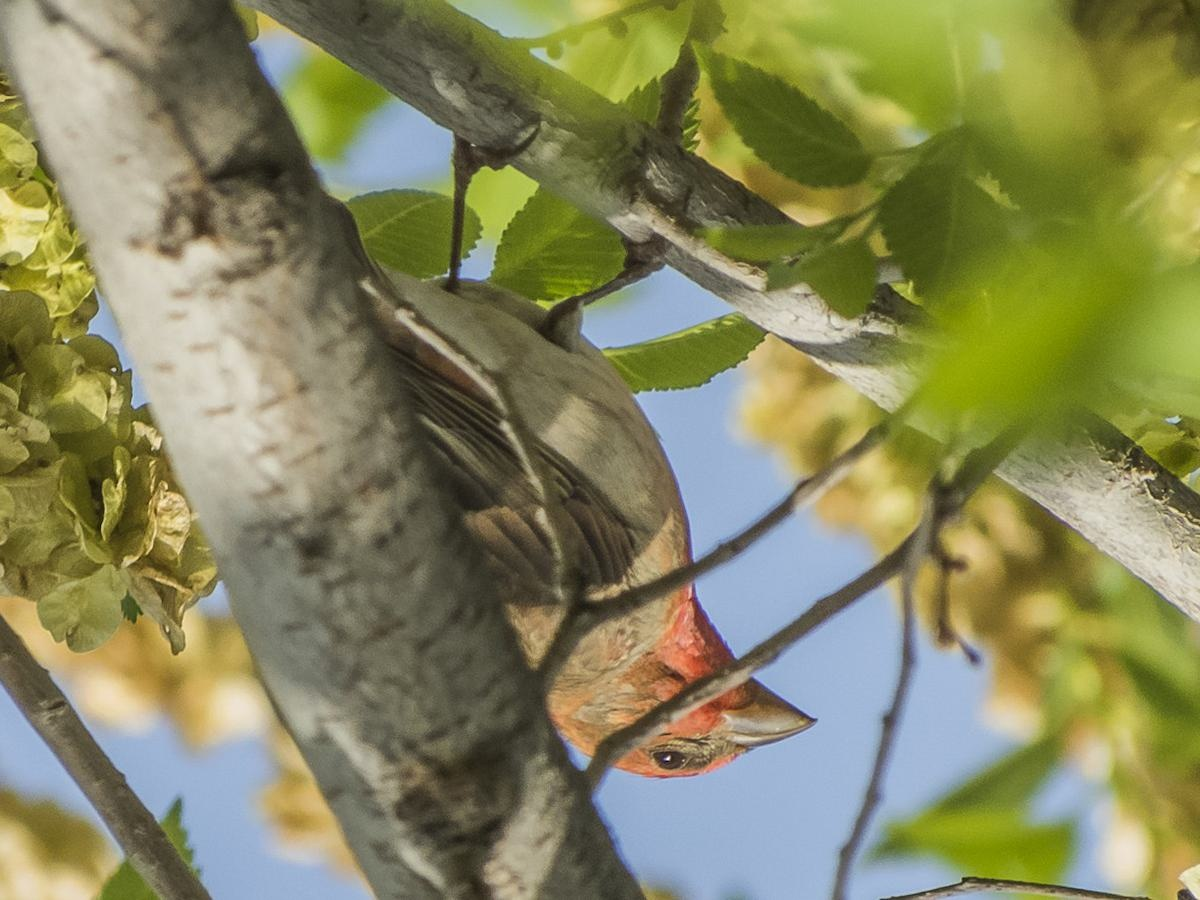rosefinch: (323, 275, 811, 816)
